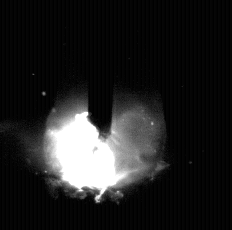arame: (89, 0, 114, 141)
poca: (41, 0, 167, 230)
